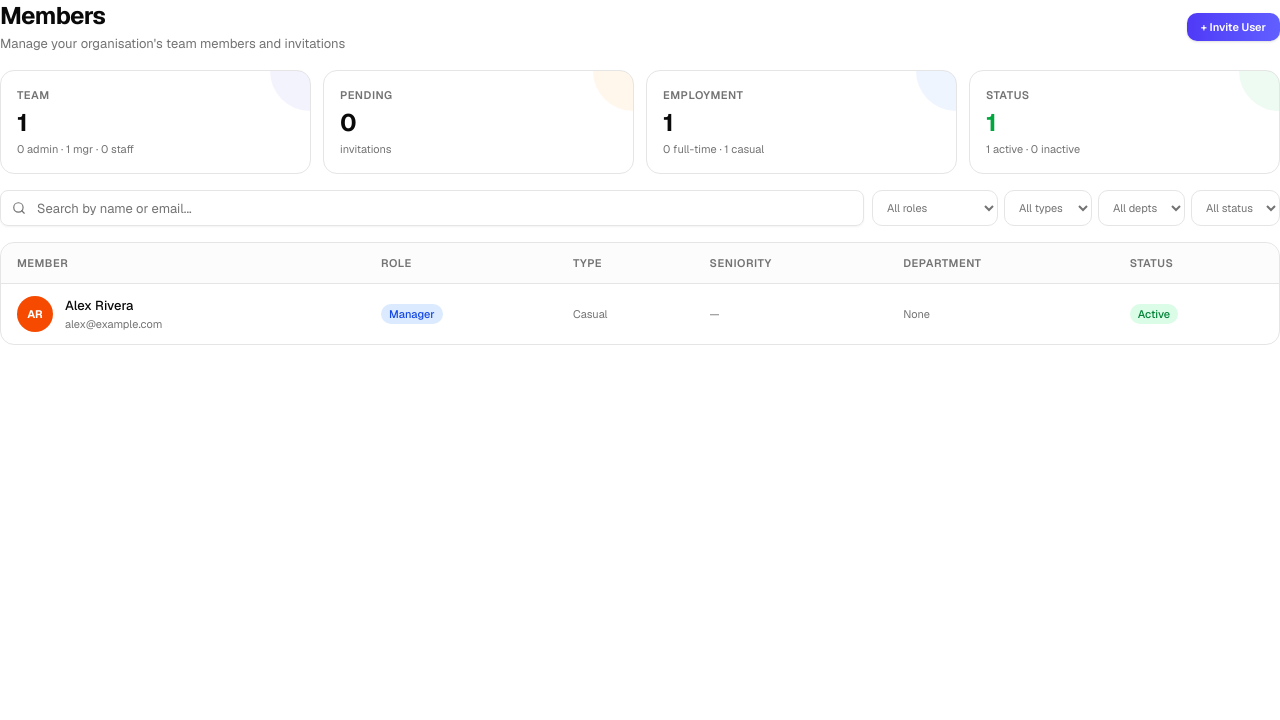
Test case: a failed edit says which fault occurred › shows the server's own reason when there is one
Click the button with aria-label "edit": (99, 306) [65, 296, 133, 316]
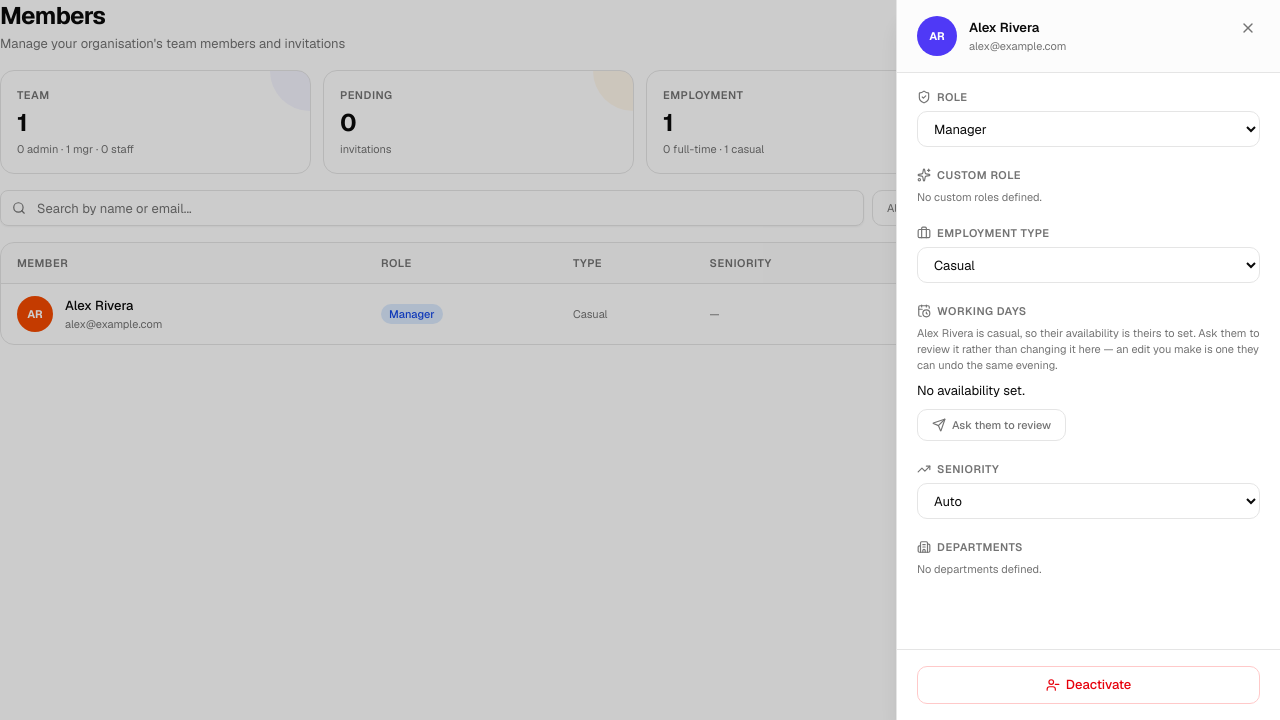
Select "Staff" in the dropdown labelled "Role": (1088, 129) [917, 111, 1260, 147]
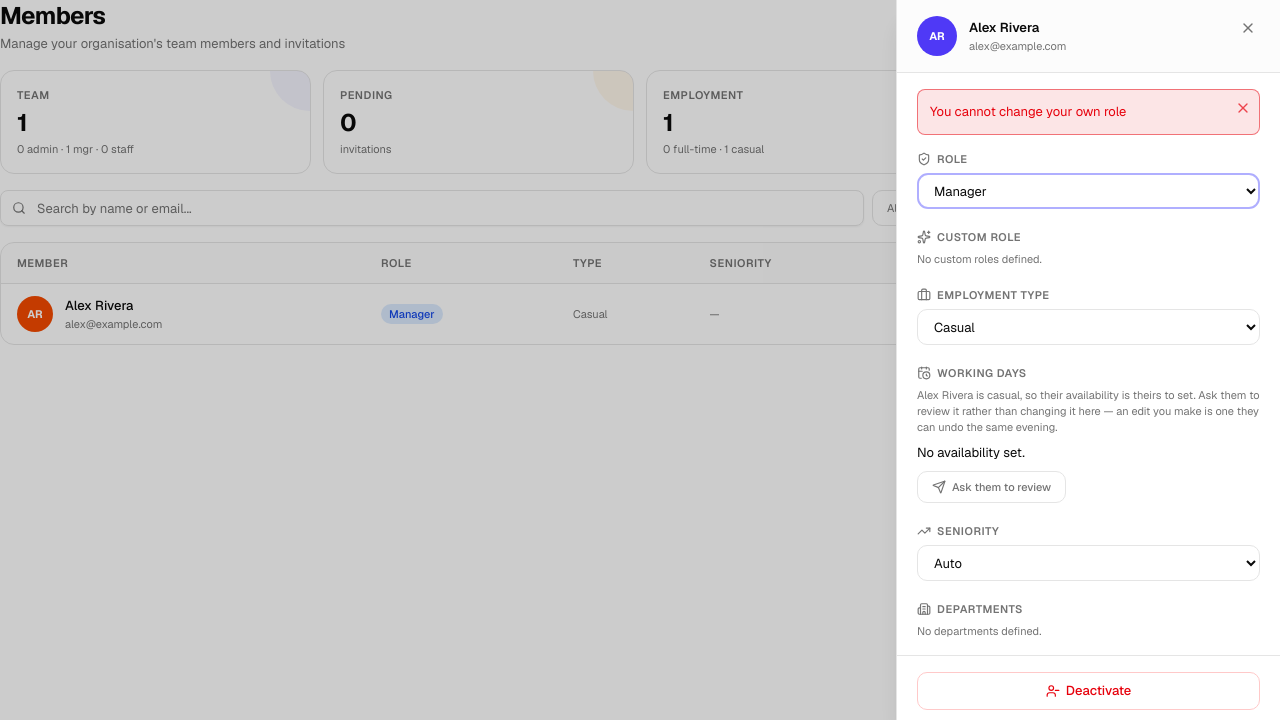
Check: the text "You cannot change your own role" is shown, box [917, 89, 1260, 135]
